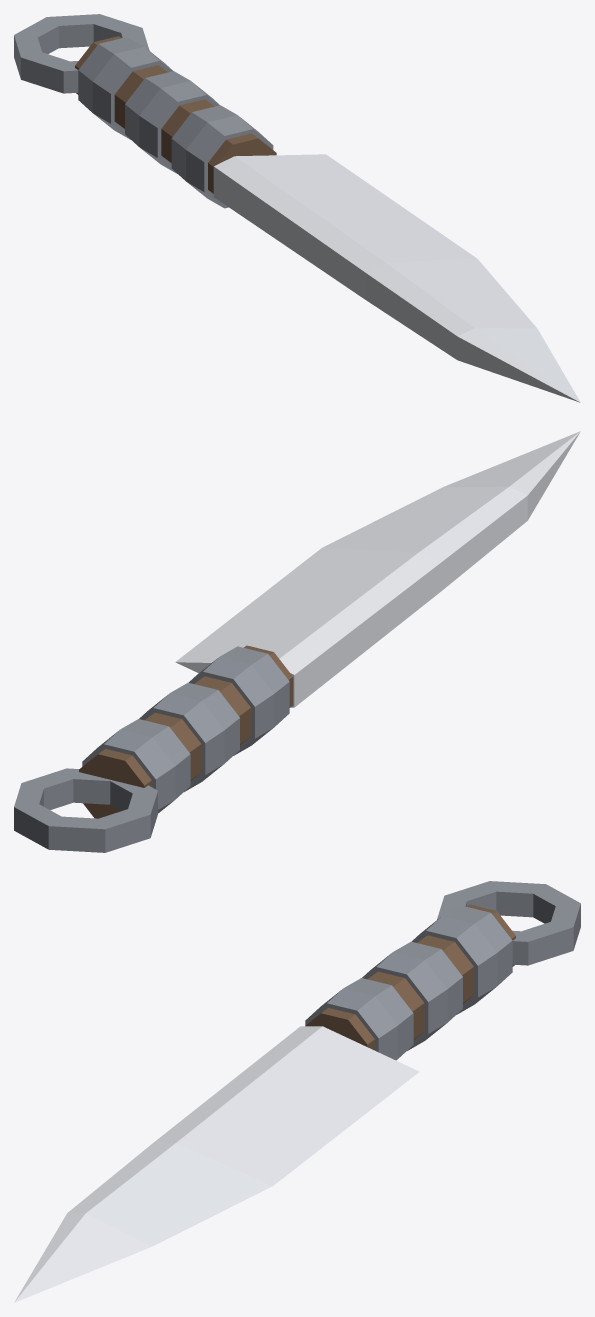
The model's file is thiefknife.glb.
3 views of the same model, one above another, from view 1: azimuth 30°, elevation 25°; view 2: azimuth 150°, elevation 25°; view 3: azimuth 330°, elevation 25° (orthographic). The views are drawn at different scales.
Visible parts, largest first — view 1: thiefknife; view 2: thiefknife; view 3: thiefknife.
Part boxes in pixels (left/top/right/bottom): thiefknife: left=14, top=14, right=580, bottom=402; thiefknife: left=14, top=431, right=580, bottom=852; thiefknife: left=14, top=881, right=580, bottom=1302.
Size of the model in its own units: 0.0884 by 0.0436 by 0.5364.
